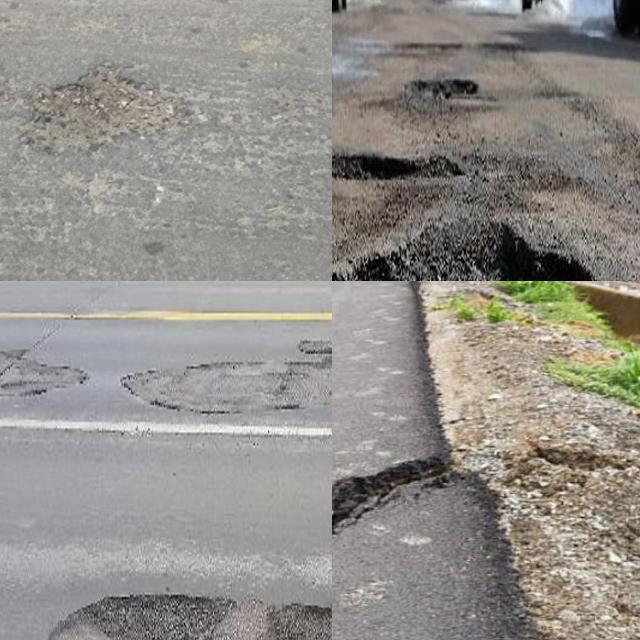Lubang: (332, 216, 587, 281), (121, 354, 332, 413), (48, 598, 332, 640), (25, 77, 162, 150), (332, 148, 467, 181), (0, 353, 78, 400), (411, 77, 490, 109)
Pinggir: (332, 453, 533, 640)
